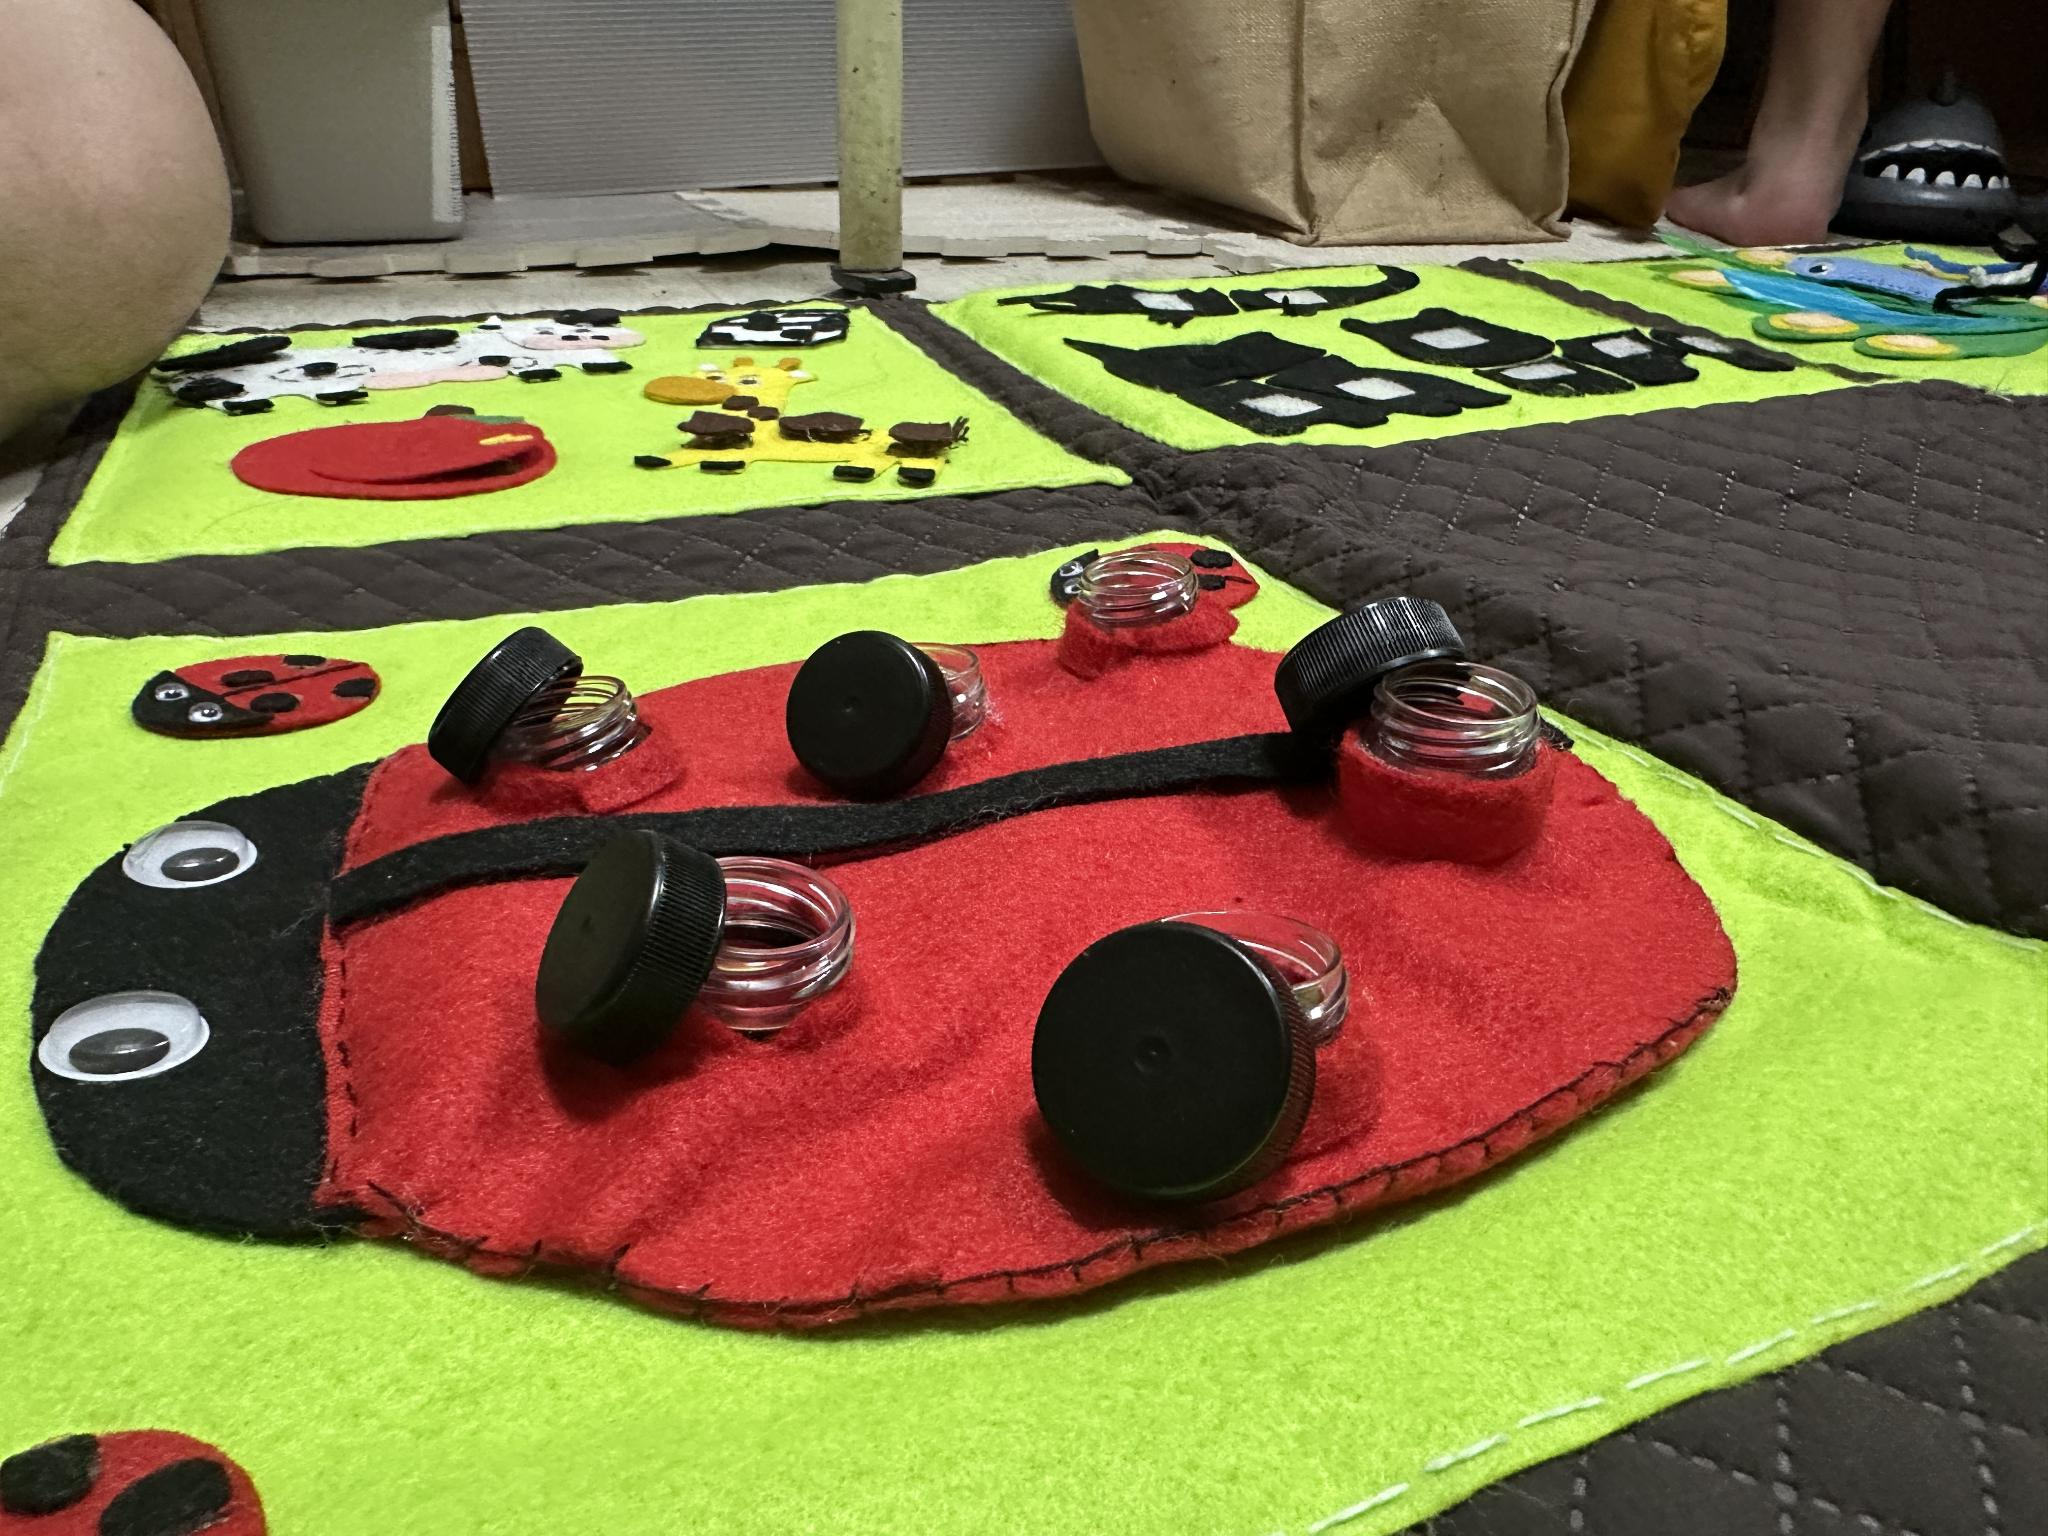cap_ng: (1016, 895, 1390, 1213), (511, 824, 884, 1099), (1271, 591, 1556, 878), (419, 621, 692, 815), (768, 621, 1006, 799)
